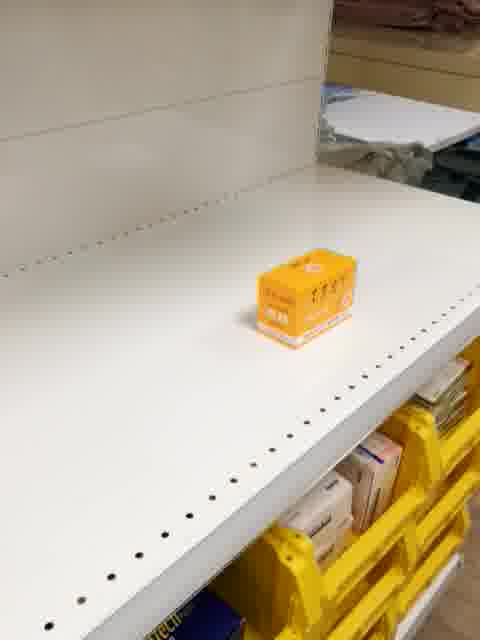jasminetea: (255, 243, 359, 352)
